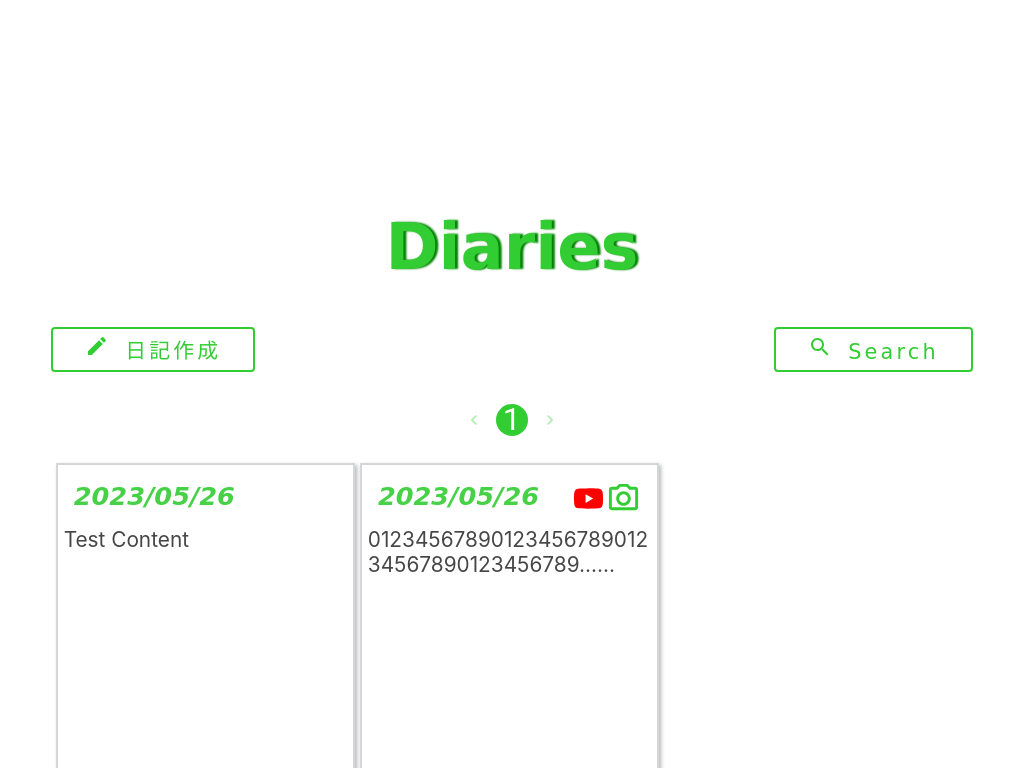
Test case: LoginHome › 日記検索欄が表示
Note: ユーザがクリックすることで表示
Click the button with test id "drawerOpenButton".
click(873, 349)  # box [774,327,973,372]
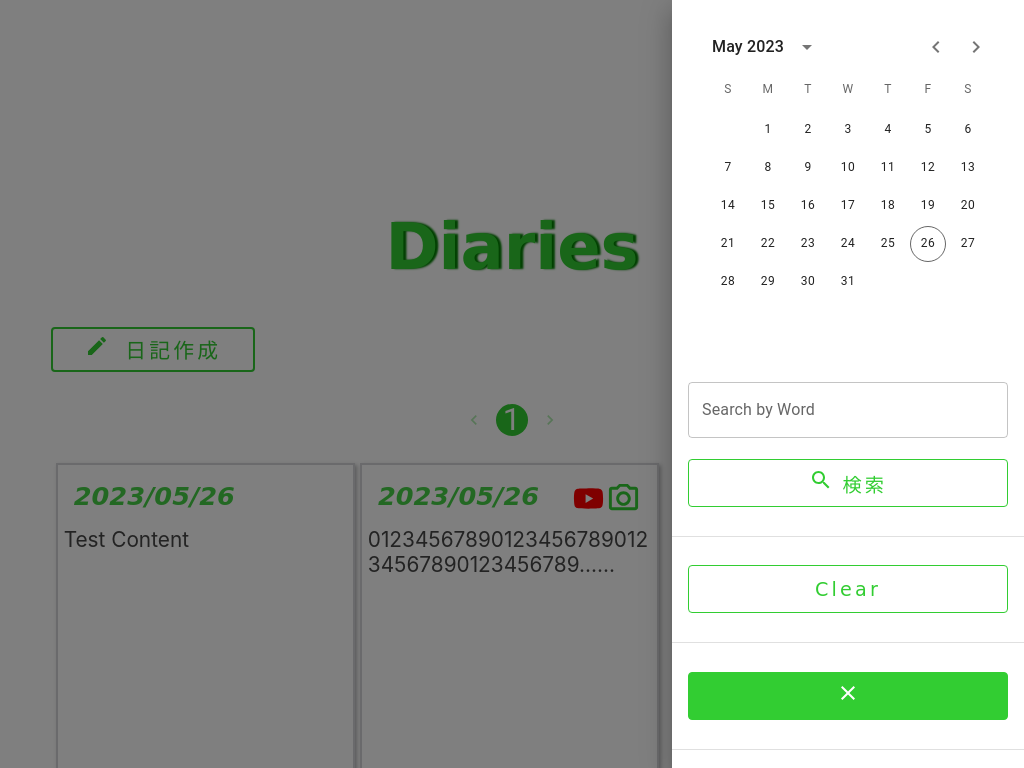
Now the element with test id "searchDrawer" is shown, box [672,0,1023,758]
Now the list item with test id "dateSearchField" is shown, box [672,8,1023,358]
Now the list item with test id "wordSearchField" is shown, box [672,358,1023,536]
